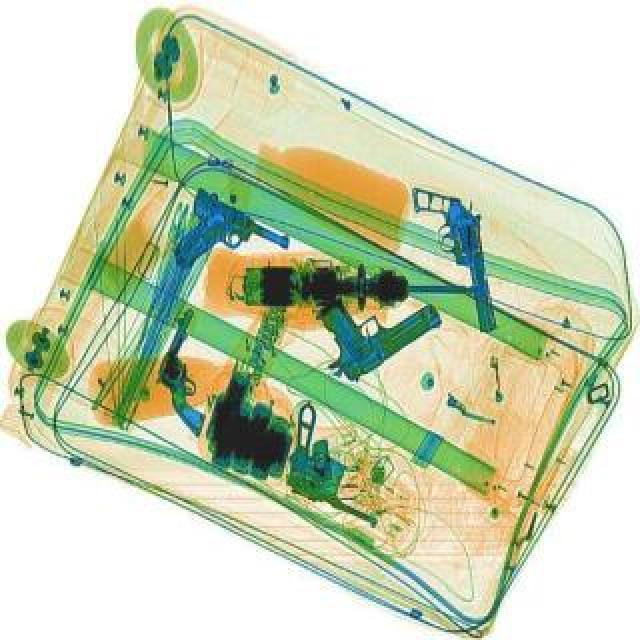gun: (260, 398, 416, 528), (298, 260, 446, 384), (160, 184, 296, 300), (136, 306, 248, 436), (410, 176, 500, 336)
